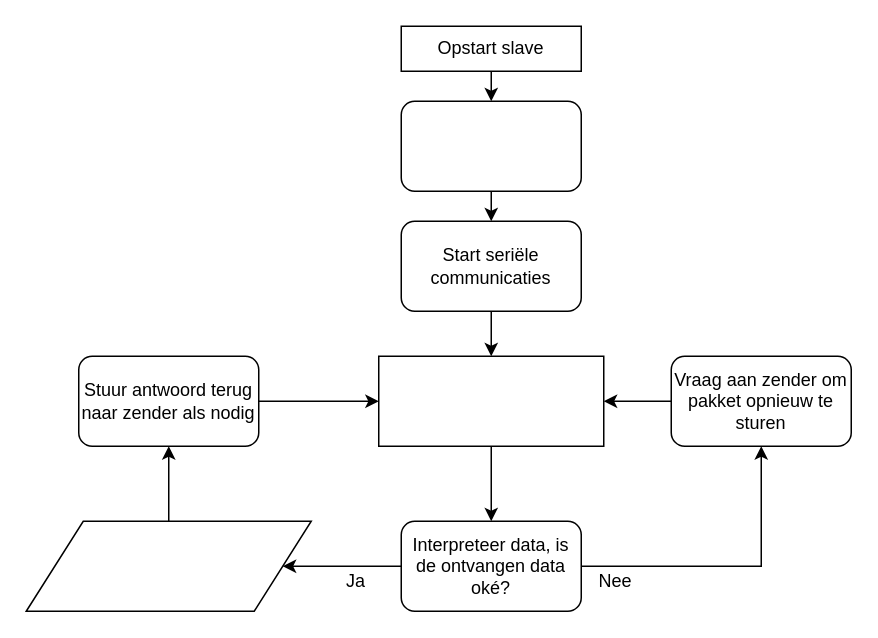
The diagram is 878 pixels wide and 638 high, and some of its shapes have lost their labels. Here are the shapes that lost their labels. From the top down, the centre of each, then its label:
(x=490, y=145): Laad gegevens uit het geheugen: Adres, properties, master-adres
(x=490, y=400): Wacht op datapakket dat voor mij bedoeld is
(x=168, y=565): Doe iets met de data (stuur uitgang aan, stel een property in)
